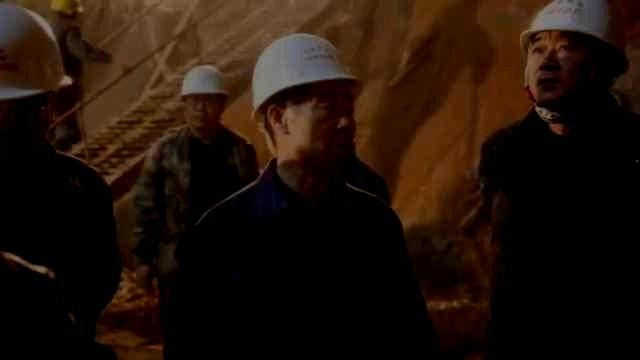helmet: (251, 32, 363, 169), (519, 1, 628, 103), (1, 3, 73, 156), (179, 65, 230, 130), (51, 1, 85, 24)
